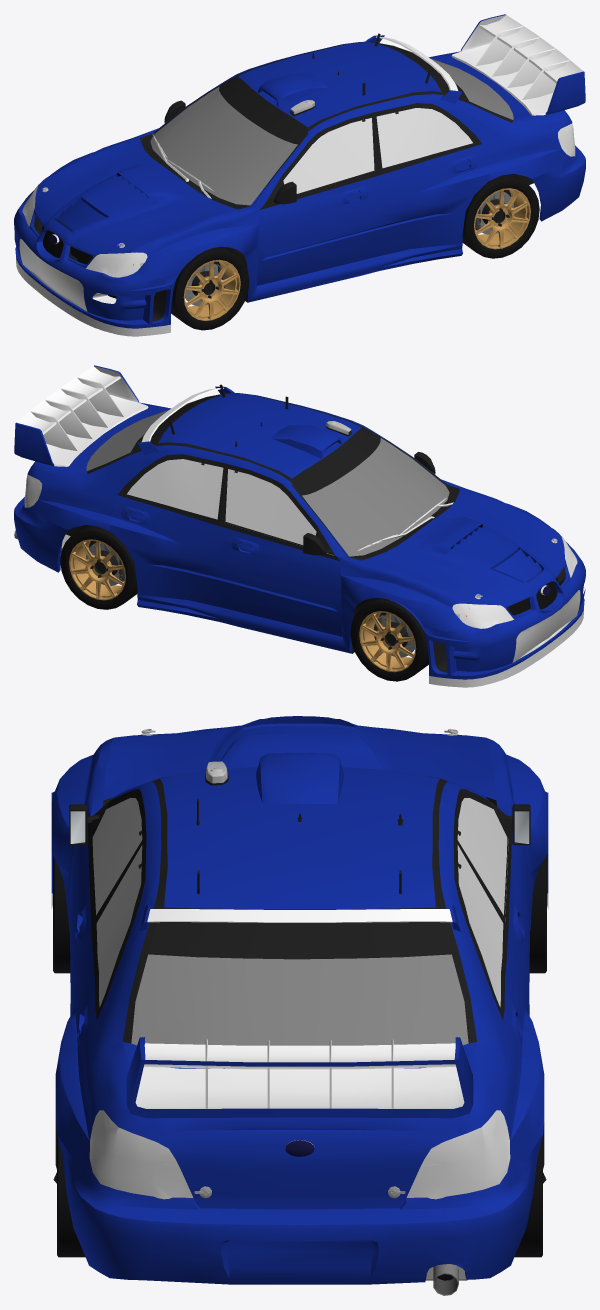
File: Subaru Impreza GD WRC 2006.fbx
3 renders of one model, top to bottom at view 1: azimuth 30°, elevation 25°; view 2: azimuth 150°, elevation 25°; view 3: azimuth 270°, elevation 25°, orthographic. The views are drawn at different scales.
Visible parts, largest first — view 1: e_body_001, e_bonnet_001, e_window_f_001, e_door_l_001, e_wing_001, e_bumper_f_001, e_wheel_ta#2_001, e_wheel_ta_001, e_window_l_001, e_window_l#1_001, e_bumper_b_001, e_window_b_001 (+9 smaller); view 2: e_body_001, e_bonnet_001, e_window_f_001, e_door_r_001, e_wing_001, e_bumper_f_001, e_wheel_ta#2_003, e_wheel_ta_003, e_window_r_001, e_window_r#1_001, e_bumper_b_001, e_window_b_001 (+9 smaller); view 3: e_body_001, e_window_b_001, e_bumper_b_001, e_wing_001, e_door_b_001, e_bonnet_001, e_lightgla_001, e_lightgla#1_001, e_wing2_001, e_intakero_001, e_window_r_001, e_window_l_001 (+11 smaller).
Part boxes in pixels (x1,y1,x2,y2): e_body_001: [29, 33, 572, 321]; e_bonnet_001: [34, 137, 238, 255]; e_window_f_001: [150, 77, 306, 205]; e_door_l_001: [257, 170, 378, 285]; e_wing_001: [451, 14, 585, 115]; e_bumper_f_001: [14, 194, 178, 328]; e_wheel_ta#2_001: [462, 173, 539, 258]; e_wheel_ta_001: [171, 246, 249, 330]; e_window_l_001: [283, 118, 374, 193]; e_window_l#1_001: [376, 108, 472, 168]; e_bumper_b_001: [532, 145, 585, 221]; e_window_b_001: [378, 43, 513, 119]; e_body_001: [27, 384, 570, 672]; e_bonnet_001: [361, 489, 565, 606]; e_window_f_001: [293, 428, 449, 556]; e_door_r_001: [221, 521, 342, 636]; e_wing_001: [14, 365, 148, 466]; e_bumper_f_001: [421, 545, 585, 679]; e_wheel_ta#2_003: [60, 525, 137, 609]; e_wheel_ta_003: [350, 598, 428, 681]; e_window_r_001: [225, 469, 316, 544]; e_window_r#1_001: [127, 459, 223, 519]; e_bumper_b_001: [14, 497, 67, 572]; e_window_b_001: [86, 394, 221, 470]; e_body_001: [51, 738, 548, 1183]; e_window_b_001: [131, 922, 468, 1045]; e_bumper_b_001: [57, 1135, 542, 1284]; e_wing_001: [126, 1037, 473, 1118]; e_door_b_001: [123, 1042, 476, 1209]; e_bonnet_001: [103, 716, 496, 799]; e_lightgla_001: [89, 1110, 193, 1199]; e_lightgla#1_001: [406, 1110, 510, 1199]; e_wing2_001: [139, 905, 460, 931]; e_intakero_001: [256, 753, 343, 803]; e_window_r_001: [457, 798, 507, 915]; e_window_l_001: [92, 798, 142, 915].
Size of the model in its own units: 173 by 56.86 by 73.38.
